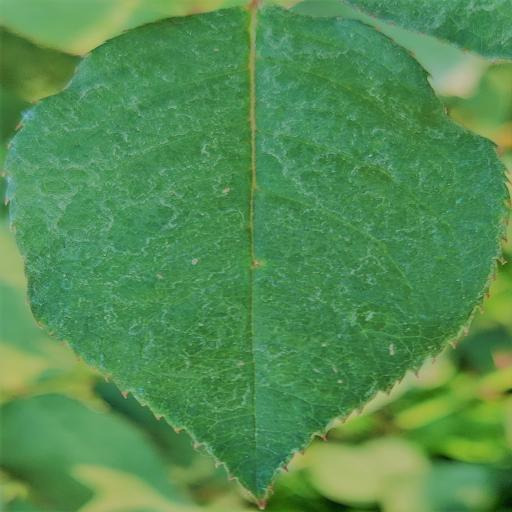healthy_leaf: (5, 0, 512, 507)
